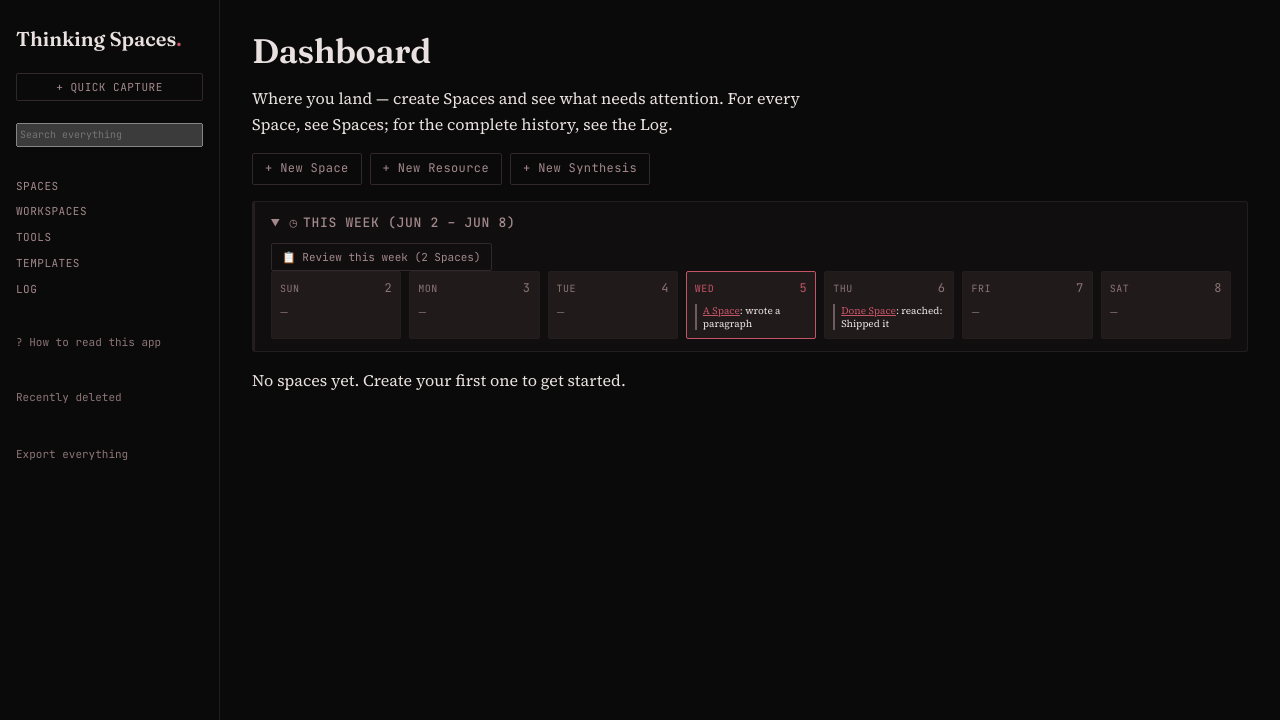
Test: Dashboard: Week calendar actions › shows a "Review this week" button only when a Space was genuinely active, and logs one Review per Space
Click the button "📋 Review this week (2 Spaces)". click: (381,257)
box: 271,243 -> 492,271
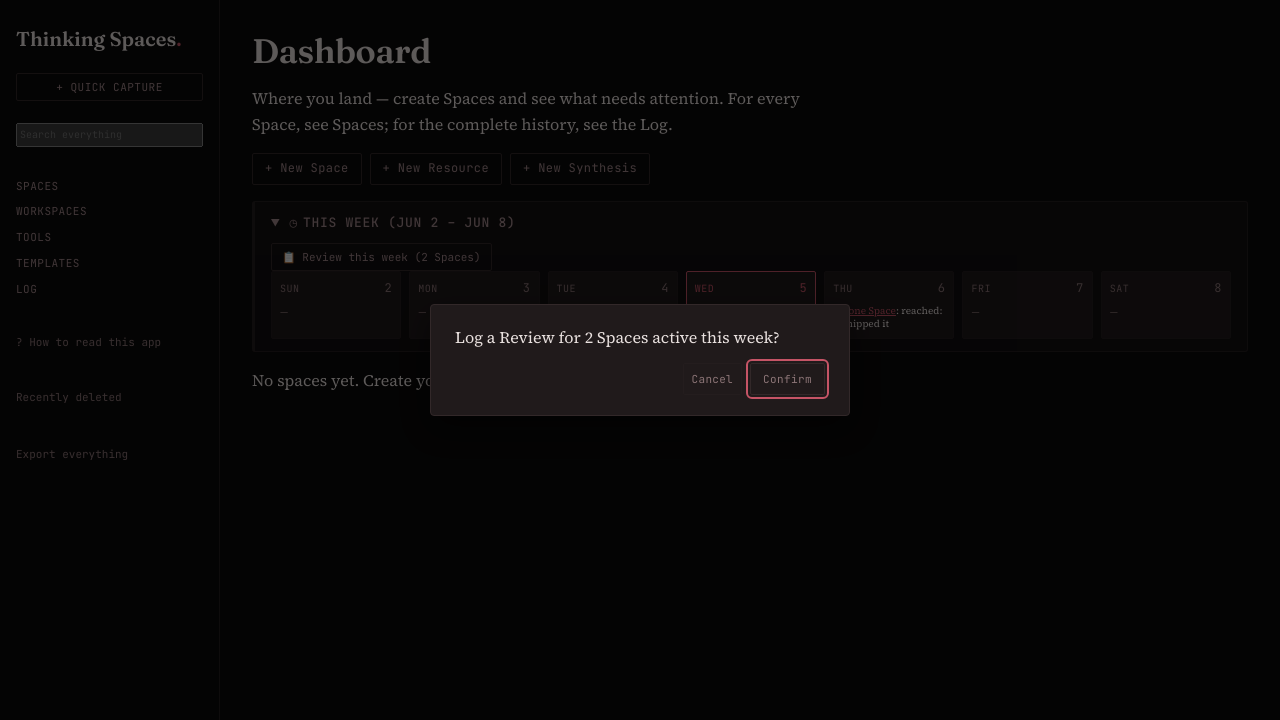
Click the button "Confirm". click: (788,379)
box: 750,363 -> 825,395
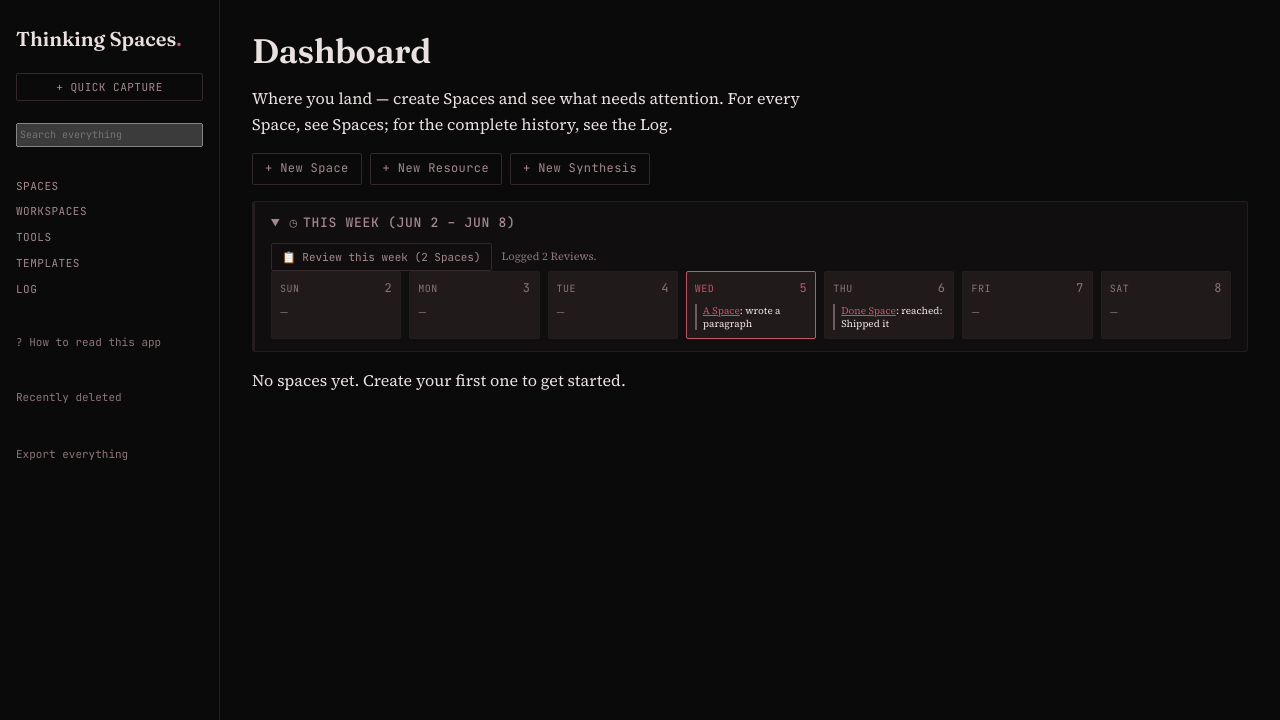
Result: the text "Logged 2 Reviews." is shown at 502,248 -> 597,266
